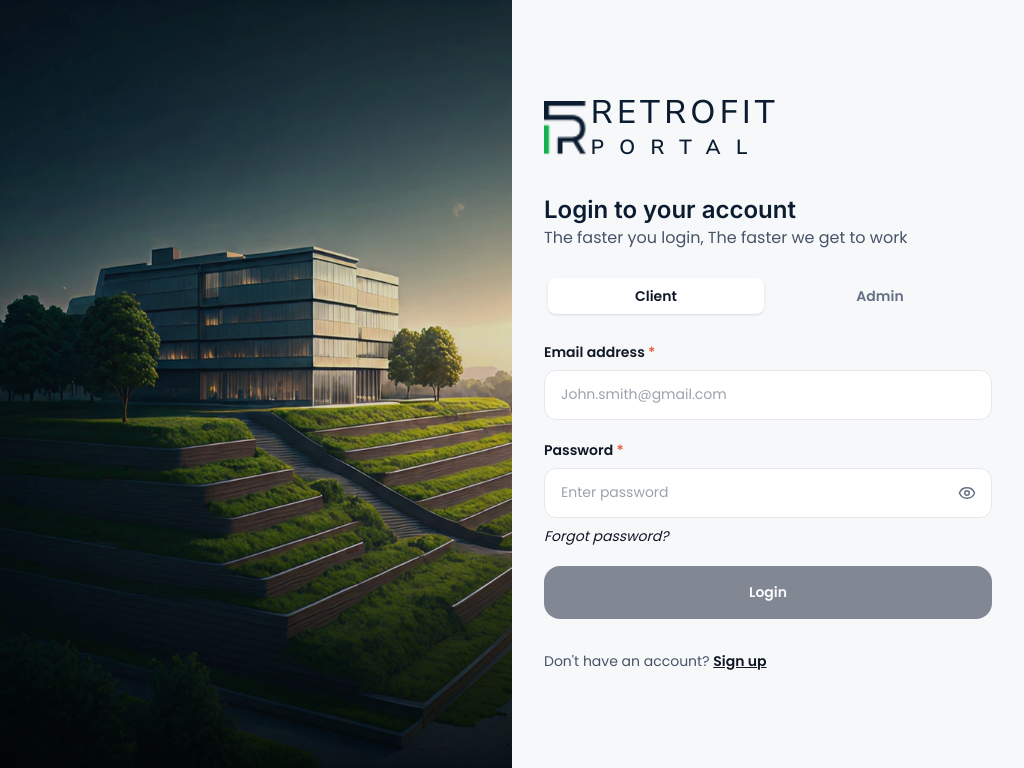
Test: Login form validation › enables the submit button for valid input
Type "john@example.com" into the field labelled "Email address *".
click(768, 395); type("john@example.com")  # box [544,370,992,420]
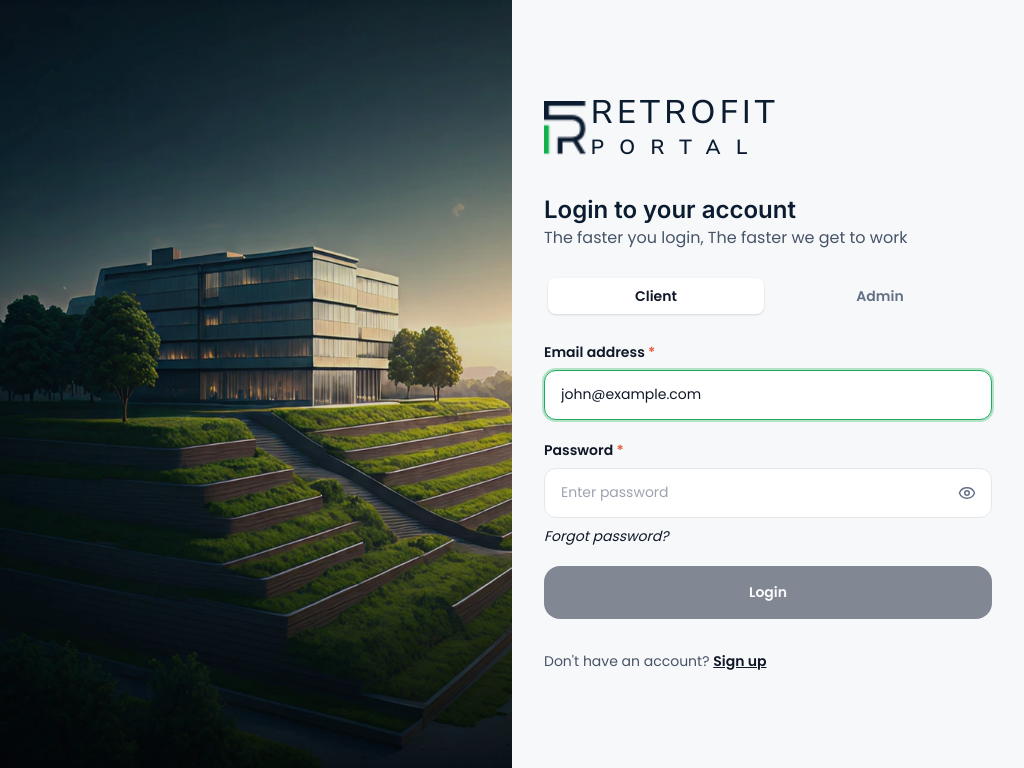
Type "secret123" into the password field labelled "Password *".
click(768, 493); type("secret123")  # box [544,468,992,518]
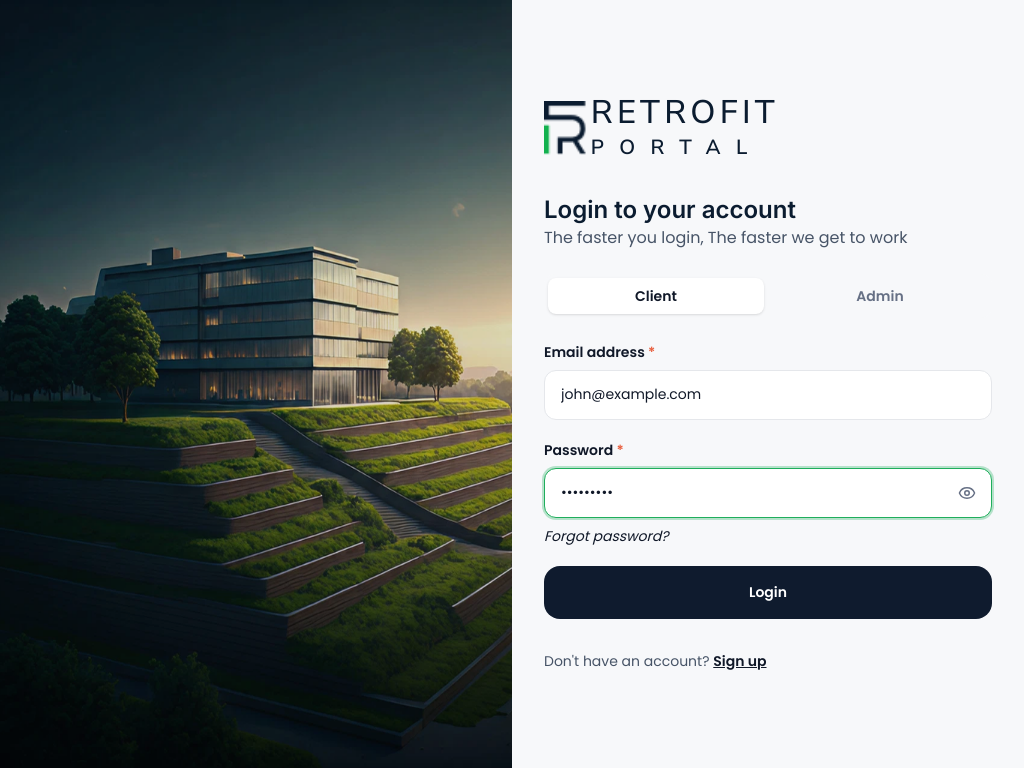
Check: the button "Login" is enabled, box [544,566,992,619]
